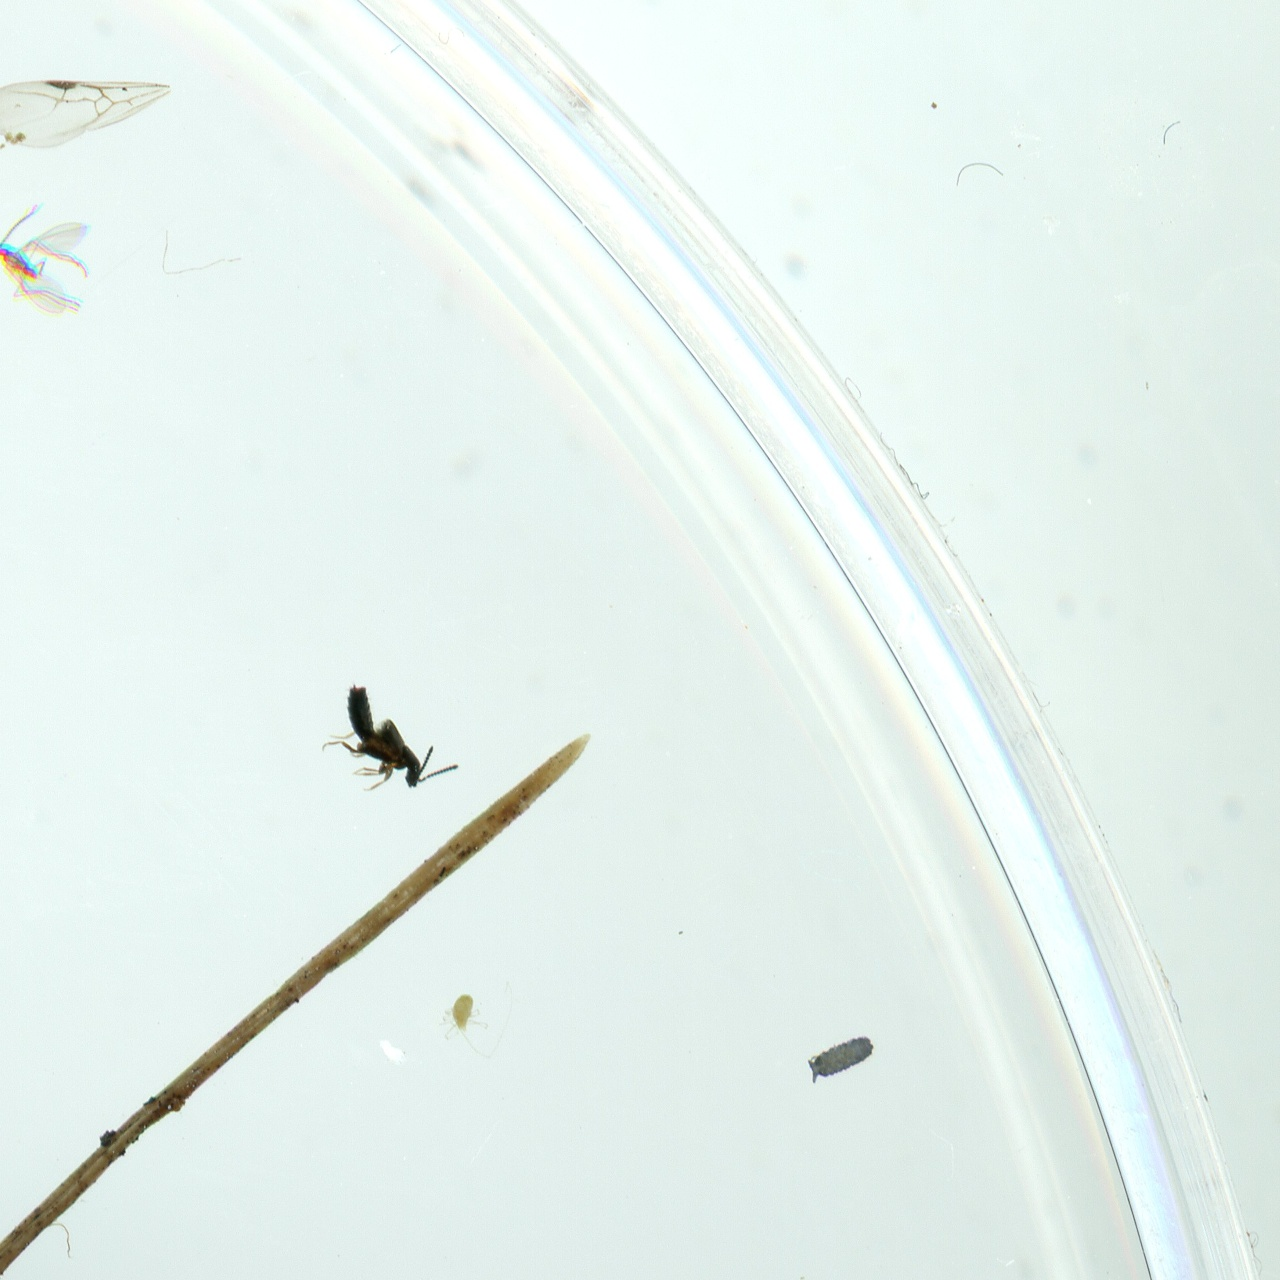arthropod: (319, 681, 458, 792), (0, 205, 89, 314), (437, 980, 517, 1058), (809, 1036, 874, 1087)
